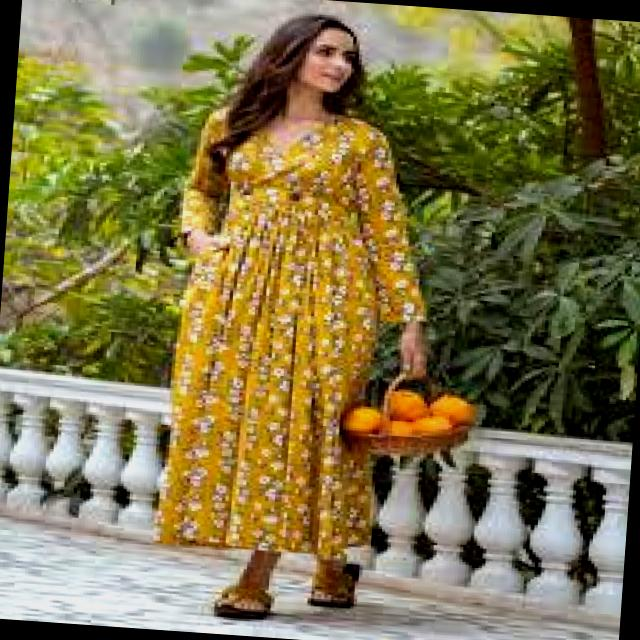dress: (156, 110, 426, 557)
face: (294, 28, 355, 92)
